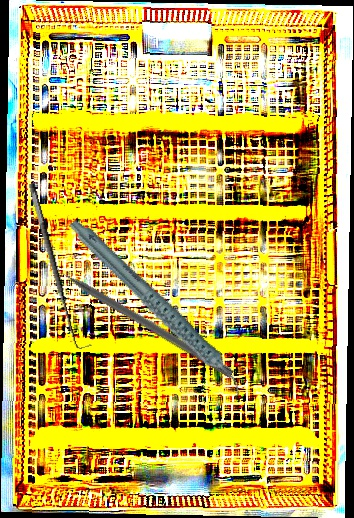Handpiece: (67, 192, 245, 425)
Hook Surgical: (25, 179, 93, 352)
Pusher: (40, 255, 236, 379)
